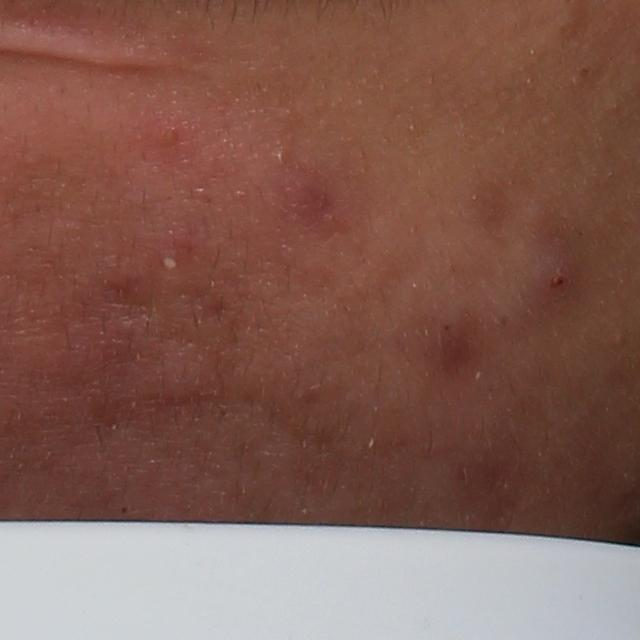comedo: (268, 146, 292, 170)
papule: (519, 249, 578, 318), (148, 117, 185, 150)
pustule: (155, 244, 183, 276)
